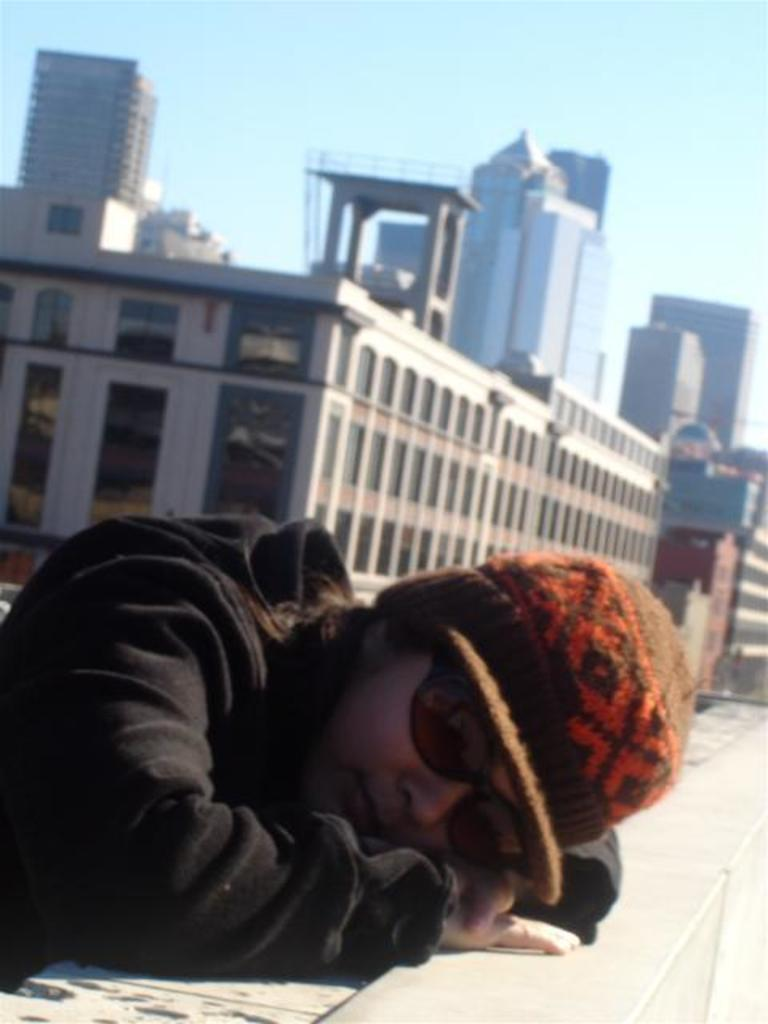Human_hand: (437, 909, 584, 958), (446, 861, 518, 933)
